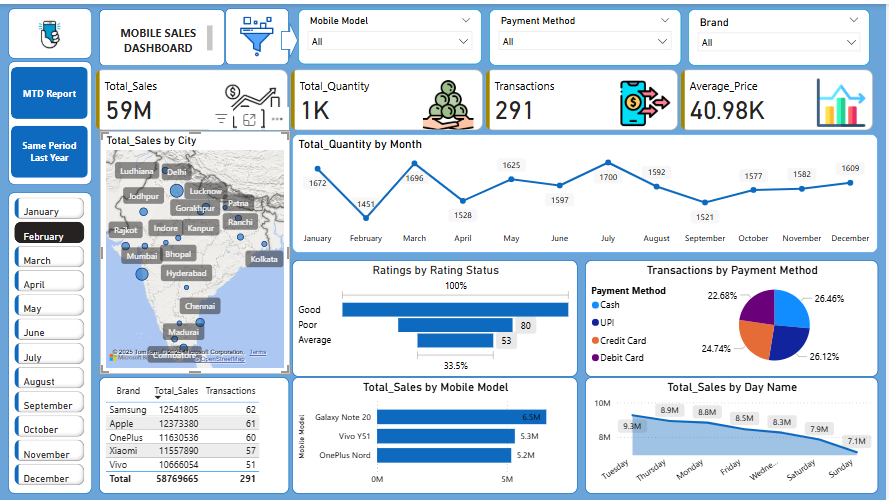

The page's visual inventory and layout, read from the dashboard file:
{"tool":"powerbi","page":{"name":"Dashboard","canvas":[1280,720],"ordinal":0},"visuals":[{"type":"shape","box":[11.6,5.8,121.4,73.7],"z":0},{"type":"image","box":[31.8,13,79.5,62.2],"z":1000},{"type":"shape","box":[11.6,82.4,121.4,179.3],"z":2000},{"type":"shape","box":[11.6,271.8,121.4,436.6],"z":3000},{"type":"advancedSlicerVisual","fields":{"Values":["Custom_Calender.Date.Variation.Date Hierarchy.Month"]},"box":[15.9,274.7,111.3,436.6],"z":4000},{"type":"cardVisual","fields":{"Data":["Mobile Sales Data.Total_Sales","Mobile Sales Data.Total_Quantity","Mobile Sales Data.Transactions","Mobile Sales Data.Average_Price"]},"box":[133,89.6,1136.4,98.3],"z":5000},{"type":"slicer","fields":{"Values":["Mobile Sales Data.Mobile Model"]},"box":[430.8,7.2,266,79.5],"z":6000},{"type":"slicer","fields":{"Values":["Mobile Sales Data.Payment Method"]},"box":[707,7.2,277.6,82.4],"z":7000},{"type":"slicer","fields":{"Values":["Mobile Sales Data.Brand"]},"box":[994.7,7.2,263.1,82.4],"z":8000},{"type":"shape","box":[325.3,5.8,92.5,82.4],"z":9000},{"type":"image","box":[336.9,11.6,69.4,70.8],"z":10000},{"type":"shape","box":[406.3,26,24.6,53.5],"z":11000},{"type":"shape","box":[143.1,7.2,182.2,82.4],"z":12000},{"type":"textbox","box":[153.3,26,159,49.2],"z":13000},{"type":"map","fields":{"Category":["Mobile Sales Data.City"],"Size":["Mobile Sales Data.Total_Sales"]},"box":[144.6,183.6,274.7,351.3],"z":14000},{"type":"lineChart","fields":{"Category":["Custom_Calender.Date.Variation.Date Hierarchy.Month"],"Y":["Mobile Sales Data.Total_Quantity"]},"box":[422.2,188,847.2,172],"z":15000},{"type":"funnel","title":"Ratings by Rating Status","fields":{"Y":["CountNonNull(Mobile Sales Data.Customer Age)"],"Category":["Mobile Sales Data.Rating Status"]},"box":[422.2,370.1,413.5,169.2],"z":16000},{"type":"pieChart","fields":{"Y":["Mobile Sales Data.Transactions"],"Category":["Mobile Sales Data.Payment Method"]},"box":[845.8,370.1,423.6,169.2],"z":17000},{"type":"clusteredBarChart","fields":{"Y":["Mobile Sales Data.Total_Sales"],"Category":["Mobile Sales Data.Mobile Model"]},"box":[422.2,539.3,413.5,169.2],"z":18000},{"type":"areaChart","fields":{"Category":["Custom_Calender.Day Name"],"Y":["Mobile Sales Data.Total_Sales"]},"box":[845.8,539.3,423.6,169.2],"z":19000},{"type":"tableEx","fields":{"Values":["Mobile Sales Data.Brand","Mobile Sales Data.Total_Sales","Mobile Sales Data.Transactions"]},"box":[143.1,539.3,274.7,169.2],"z":20000},{"type":"pageNavigator","box":[15.9,91.1,111.3,160.5],"z":21000}]}

Visuals, with their boxes in screenshot pixels (x1, y1, x2, y2), scaled from the page's 1280x720 canvas onto the 889x500 screenshot:
shape: {"left": 8, "top": 4, "right": 92, "bottom": 55}
image: {"left": 22, "top": 9, "right": 77, "bottom": 52}
shape: {"left": 8, "top": 57, "right": 92, "bottom": 182}
shape: {"left": 8, "top": 189, "right": 92, "bottom": 492}
advancedSlicerVisual - Custom_Calender.Date.Variation.Date Hierarchy.Month: {"left": 11, "top": 191, "right": 88, "bottom": 494}
cardVisual - Mobile Sales Data.Total_Sales x Mobile Sales Data.Total_Quantity: {"left": 92, "top": 62, "right": 882, "bottom": 130}
slicer - Mobile Sales Data.Mobile Model: {"left": 299, "top": 5, "right": 484, "bottom": 60}
slicer - Mobile Sales Data.Payment Method: {"left": 491, "top": 5, "right": 684, "bottom": 62}
slicer - Mobile Sales Data.Brand: {"left": 691, "top": 5, "right": 874, "bottom": 62}
shape: {"left": 226, "top": 4, "right": 290, "bottom": 61}
image: {"left": 234, "top": 8, "right": 282, "bottom": 57}
shape: {"left": 282, "top": 18, "right": 299, "bottom": 55}
shape: {"left": 99, "top": 5, "right": 226, "bottom": 62}
textbox: {"left": 106, "top": 18, "right": 217, "bottom": 52}
map - Mobile Sales Data.City x Mobile Sales Data.Total_Sales: {"left": 100, "top": 127, "right": 291, "bottom": 371}
lineChart - Custom_Calender.Date.Variation.Date Hierarchy.Month x Mobile Sales Data.Total_Quantity: {"left": 293, "top": 131, "right": 882, "bottom": 250}
"Ratings by Rating Status" funnel: {"left": 293, "top": 257, "right": 580, "bottom": 375}
pieChart - Mobile Sales Data.Transactions x Mobile Sales Data.Payment Method: {"left": 587, "top": 257, "right": 882, "bottom": 375}
clusteredBarChart - Mobile Sales Data.Total_Sales x Mobile Sales Data.Mobile Model: {"left": 293, "top": 375, "right": 580, "bottom": 492}
areaChart - Custom_Calender.Day Name x Mobile Sales Data.Total_Sales: {"left": 587, "top": 375, "right": 882, "bottom": 492}
tableEx - Mobile Sales Data.Brand x Mobile Sales Data.Total_Sales: {"left": 99, "top": 375, "right": 290, "bottom": 492}
pageNavigator: {"left": 11, "top": 63, "right": 88, "bottom": 175}
